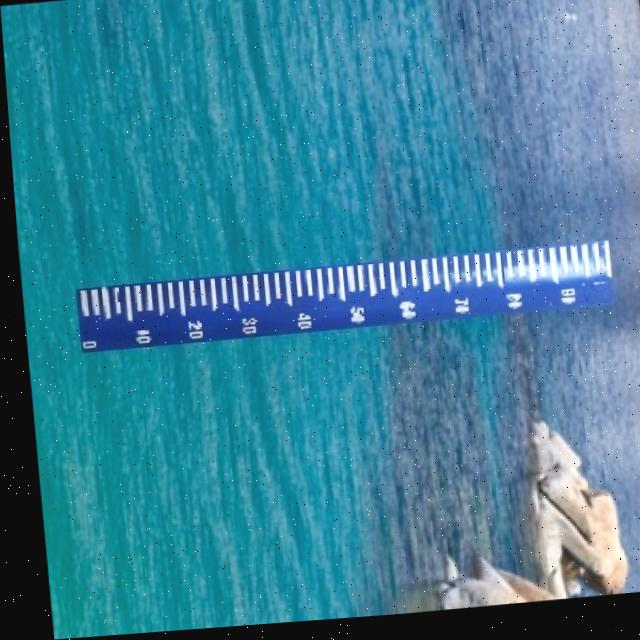water-meter: (66, 234, 621, 362)
